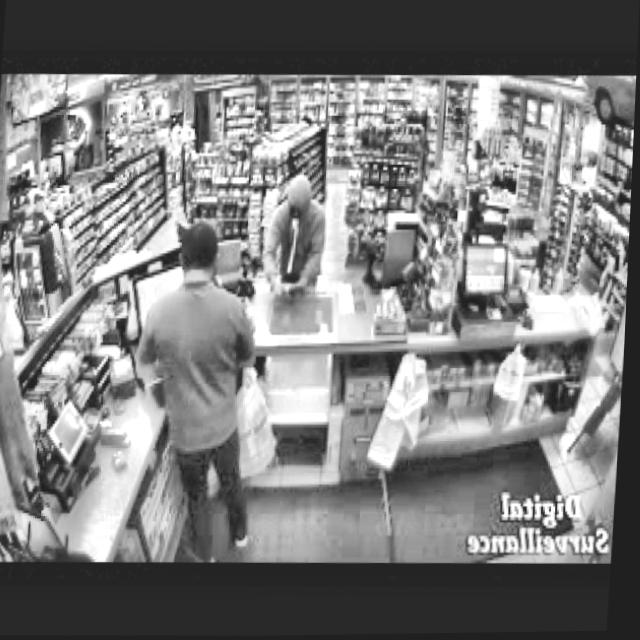robbery: (259, 171, 334, 309)
